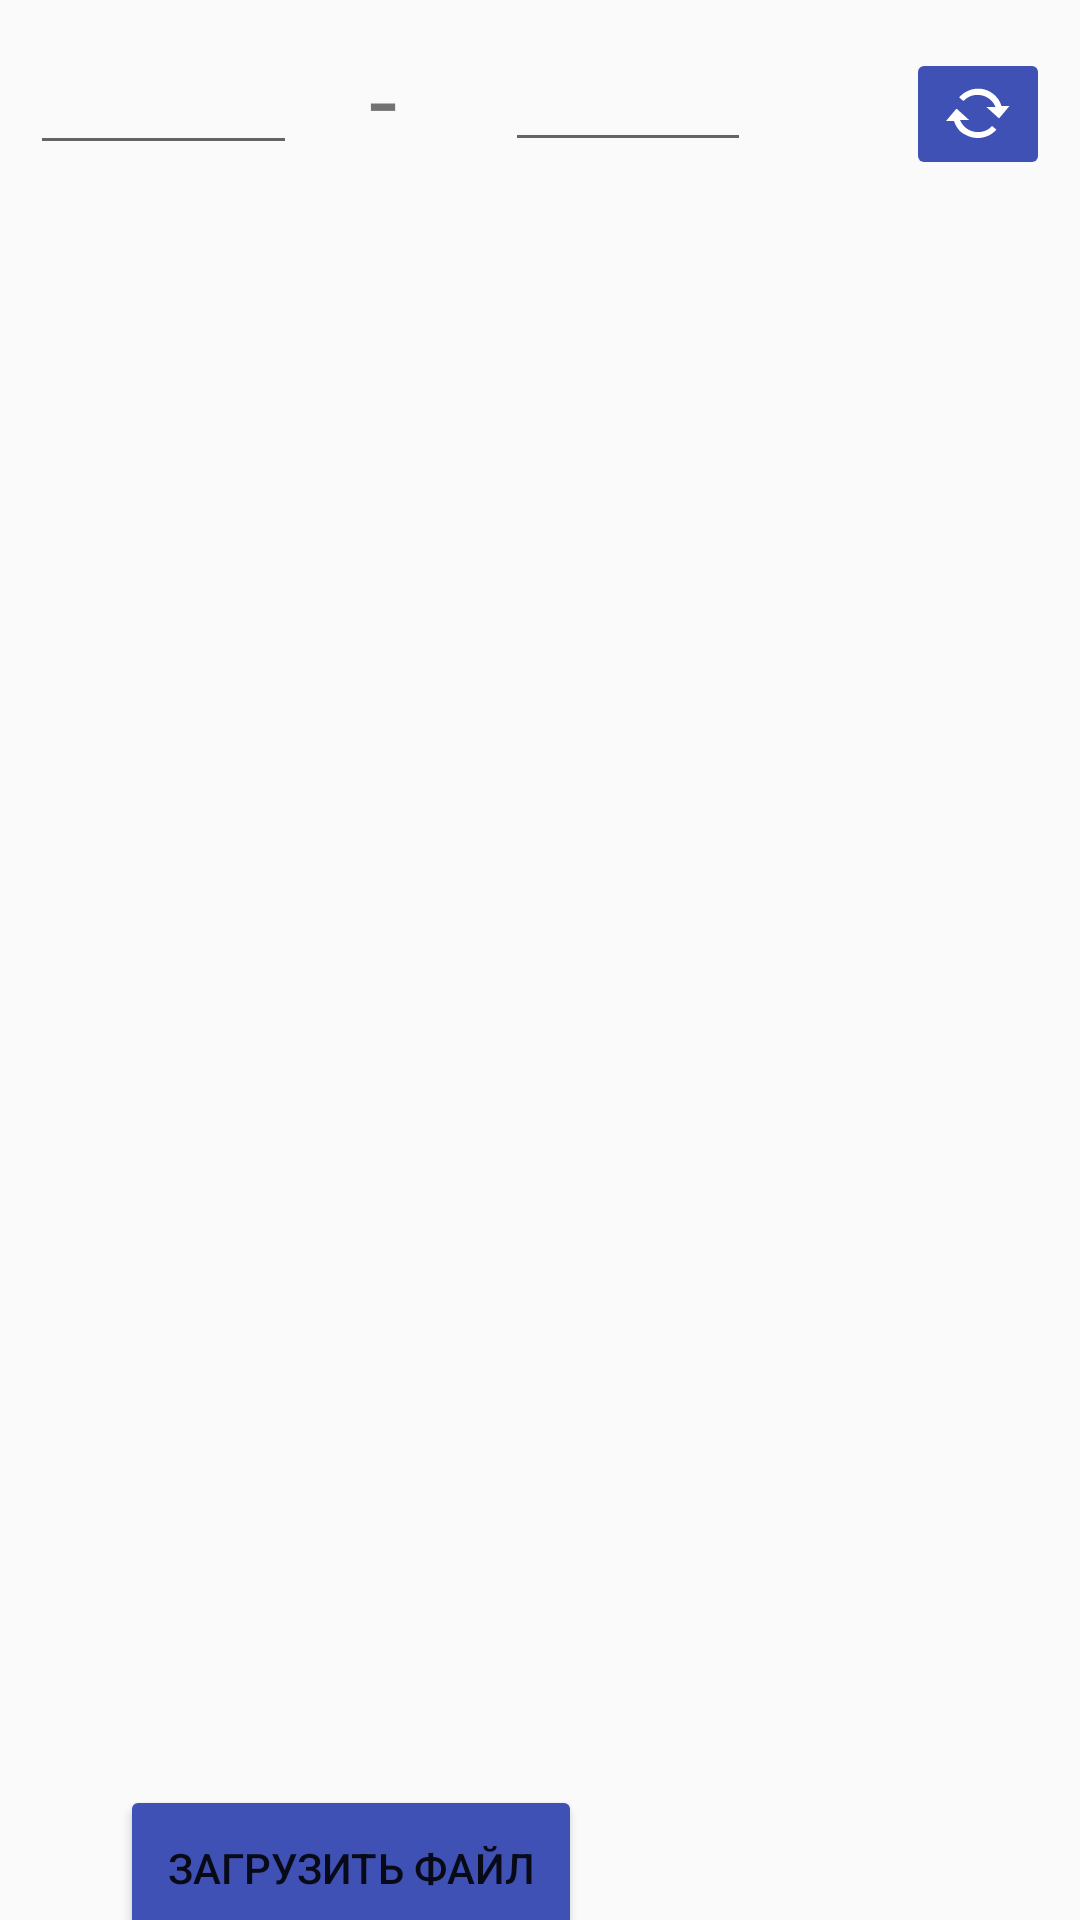

Icons on this 1080px×1920px Android screen, each with the point to tap as [x,y]:
sync: [978,114]
